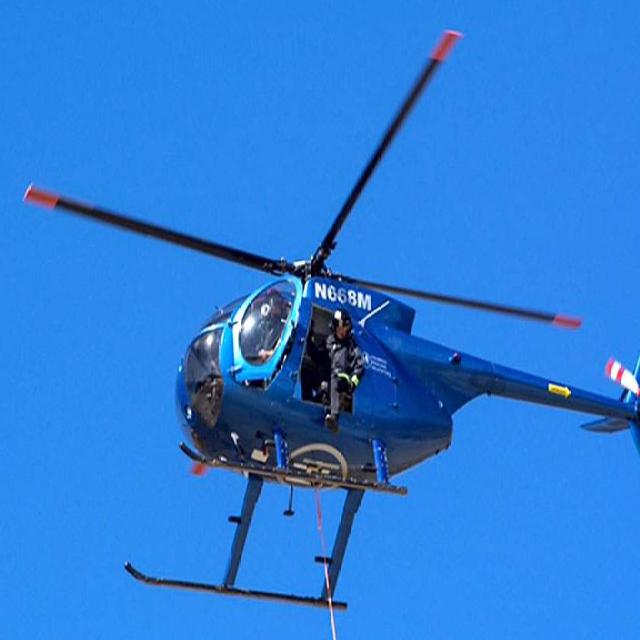helicopter: (25, 31, 640, 611)
